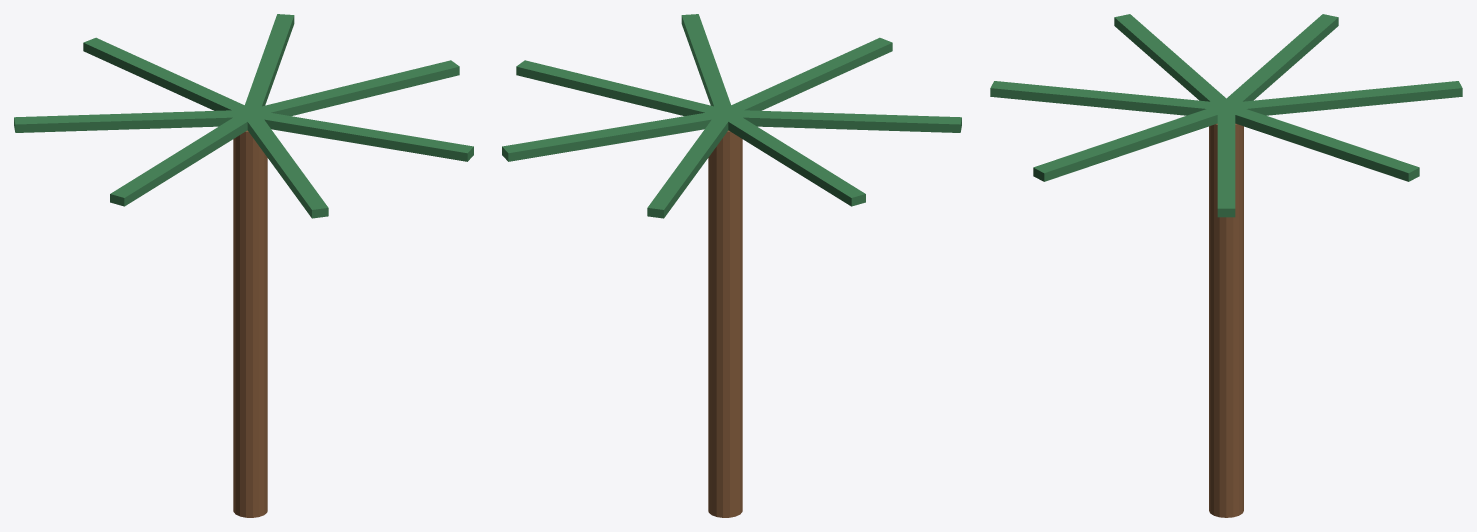
File: Vegetation_014.glb
The picture shows the model from 3 angles, left to right: view 1: azimuth 30°, elevation 25°; view 2: azimuth 150°, elevation 25°; view 3: azimuth 270°, elevation 25°; orthographic projection.
Parts seen in each view (by area): view 1: Vegetation_014; view 2: Vegetation_014; view 3: Vegetation_014.
Part boxes in pixels (bbox=[...]): Vegetation_014: bbox=[14, 14, 473, 517]; Vegetation_014: bbox=[502, 14, 961, 517]; Vegetation_014: bbox=[990, 14, 1462, 517].
Size of the model in its own units: 5.75 by 5.56 by 5.9.
